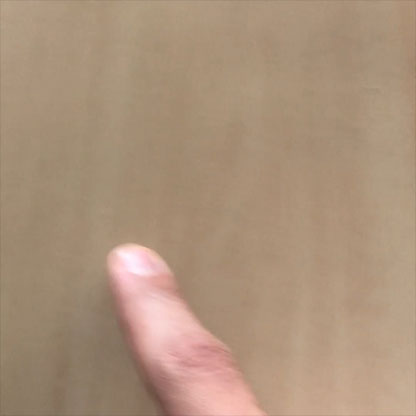fingertip: (94, 227, 179, 298)
